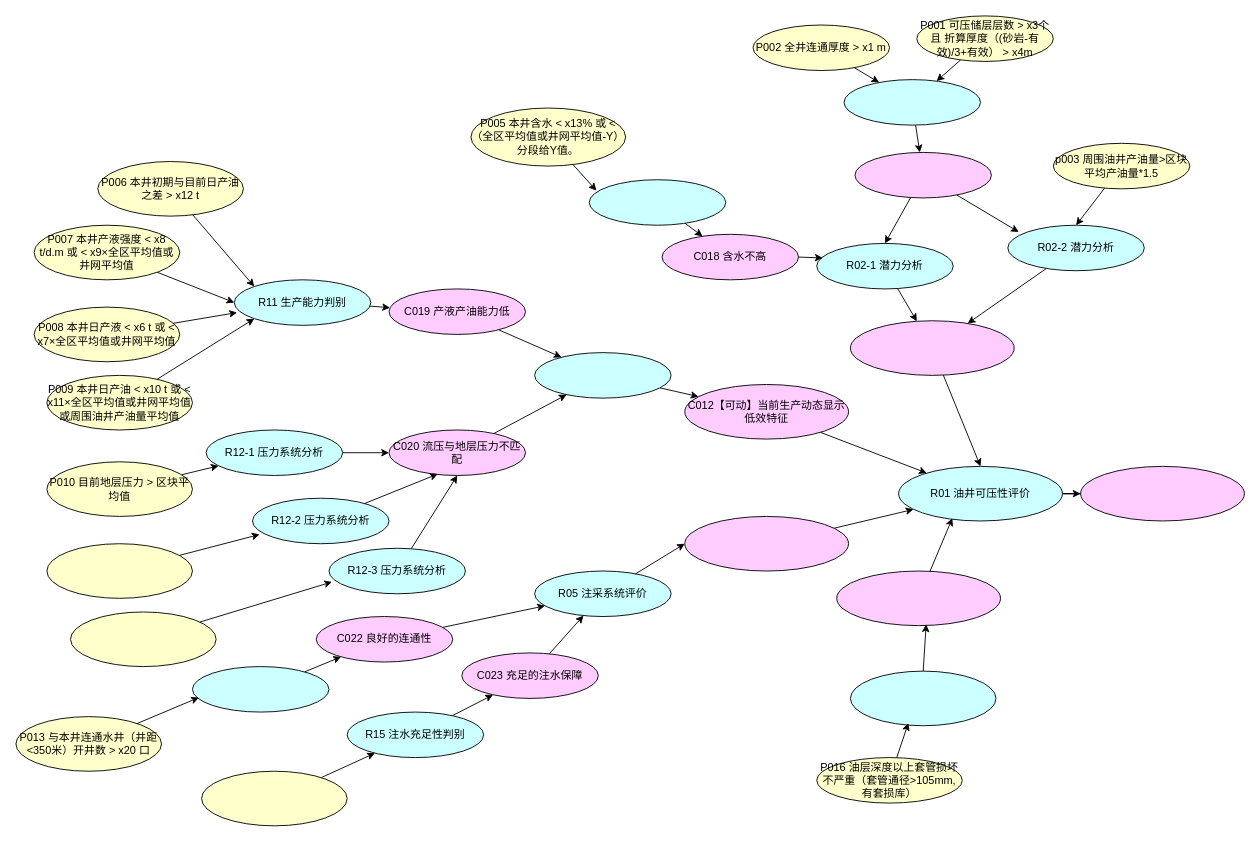
Image size: 1260x842. Some labels were removed from this diagram. The box of each missing label's shape, as (x1, y1, x2, y2) in pixels:
C001 油井具备可压性: (1080, 465, 1244, 521)
C011【有油】油井具备增油潜力: (849, 320, 1014, 375)
C013【安全】井筒状况完好允许安全施工: (836, 570, 1001, 626)
C014【能补】井组注采系统提供有效支持: (684, 516, 849, 571)
C015 储层厚度足够: (854, 152, 991, 198)
P011 流压小于区块平均值 或动液面大于区块平均值: (46, 543, 192, 598)
P012 动液面大于区块平均值: (70, 611, 216, 667)
P015 与本井连通水井配注完成率 > x22%（提出水井配套措施）: (201, 770, 347, 826)
R03 低效判别: (534, 352, 671, 398)
R06 厚度判别: (843, 79, 981, 125)
R10 含水判别: (588, 179, 726, 225)
R14 连通性判别: (192, 666, 329, 712)
R19 井筒施工可行性评价: (849, 670, 996, 726)
